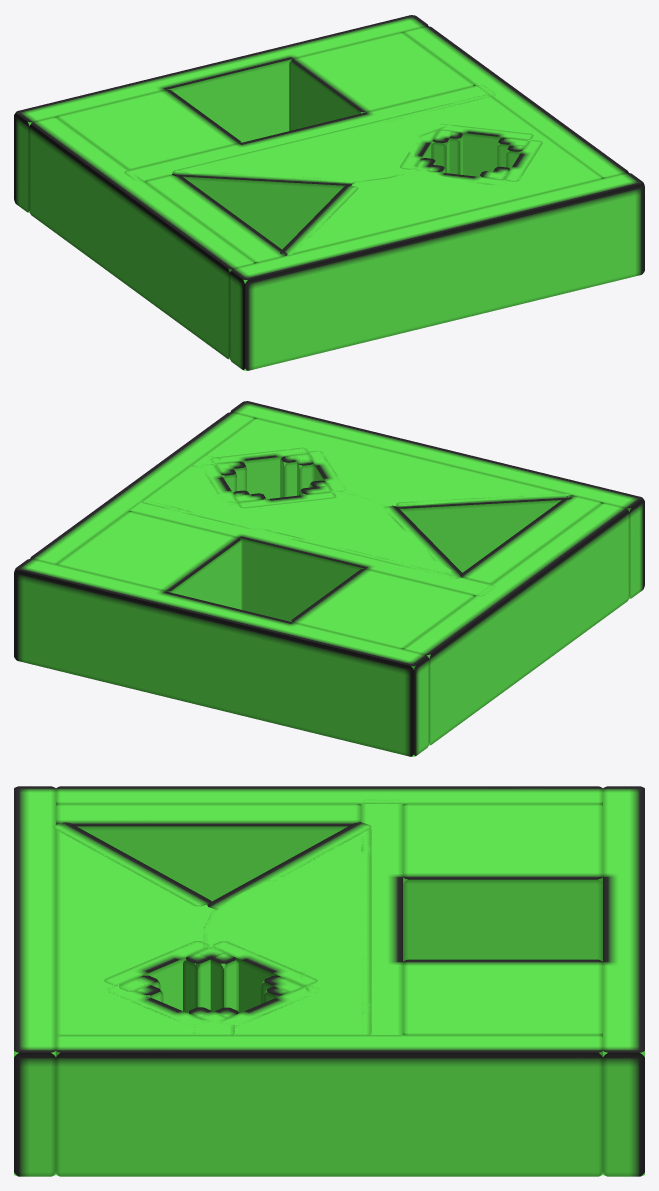
Rendered from Puzzle.fbx.
The picture shows the model from 3 angles, top to bottom: view 1: azimuth 30°, elevation 25°; view 2: azimuth 150°, elevation 25°; view 3: azimuth 270°, elevation 25°; orthographic projection. The views are drawn at different scales.
Parts seen in each view (by area): view 1: cube_23, cube_3, cube_2, cube_1, cube, cube_5, cube_6, cube_16, cube_22, cube_4, cube_18, cube_20 (+5 smaller); view 2: cube_2, cube_3, cube, cube_1, cube_4, cube_5, cube_6, cube_23, cube_17, cube_22, cube_18, cube_14 (+6 smaller); view 3: cube_22, cube_6, cube_1, cube, cube_18, cube_2, cube_23, cube_5, cube_3, cube_4, cube_8, cube_11 (+6 smaller).
Boxes of the visible parts, x1,y1,x2,y2 form: cube_23: (229,173,644,370); cube_3: (29,117,254,359); cube_2: (14,15,428,212); cube_1: (178,94,547,182); cube: (292,132,601,253); cube_5: (289,33,474,130); cube_6: (58,90,241,169); cube_16: (172,169,353,249); cube_22: (404,26,628,178); cube_4: (124,85,495,182); cube_18: (146,175,287,271); cube_20: (439,123,533,176); cube_2: (14,559,429,756); cube_3: (404,503,629,745); cube: (192,418,564,509); cube_1: (142,455,452,576); cube_4: (128,499,495,648); cube_5: (57,512,242,609); cube_6: (290,568,473,658); cube_23: (230,401,644,598); cube_17: (396,493,572,572); cube_22: (30,412,254,565); cube_18: (460,495,600,584); cube_14: (210,447,308,499); cube_22: (56,1035,602,1176); cube_6: (403,804,602,961); cube_1: (193,828,371,1034); cube: (56,828,234,1055); cube_18: (56,804,360,901); cube_2: (603,786,644,1176); cube_23: (14,786,55,1176); cube_5: (403,959,602,1054); cube_3: (56,786,602,883); cube_4: (361,799,402,1034); cube_8: (212,941,317,1012); cube_11: (104,941,209,1010).
Size of the model in its own units: 375 by 81.25 by 375.
1 material, 1 textured.
